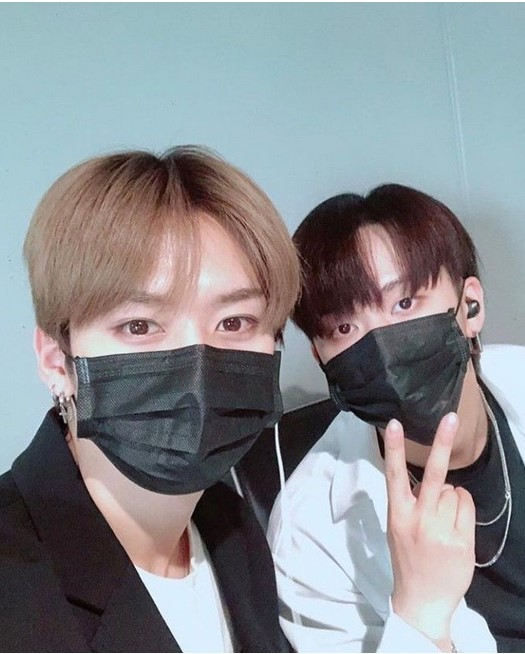face_with_mask: (22, 162, 297, 499), (288, 183, 487, 455)
